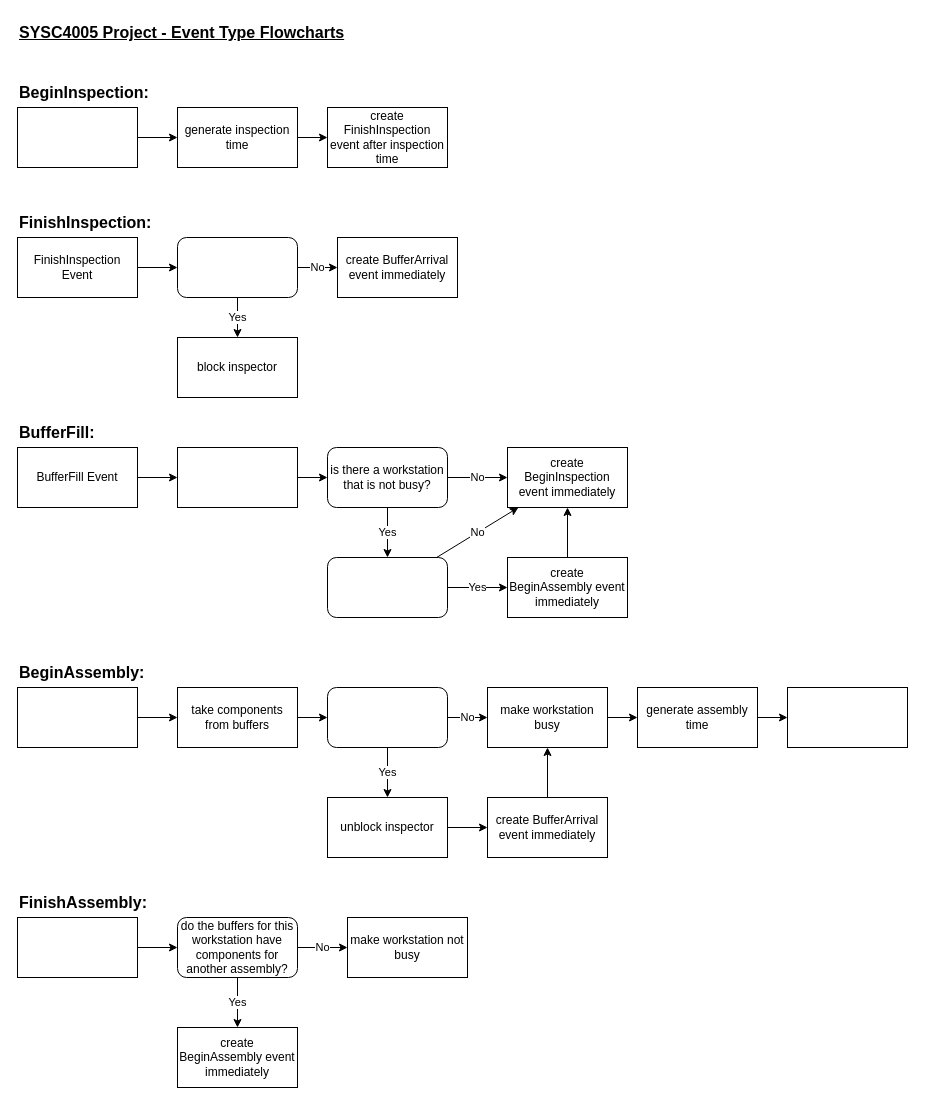
Image size: 925x1105. Some labels were removed from this diagram. Each missing label, with the box of its shape:
add component to buffer: (176, 446, 298, 508)
are all buffers full?: (176, 236, 298, 298)
BeginAssembly Event: (16, 686, 138, 748)
BeginInspection Event: (16, 106, 138, 168)
create FinishAssembly after assembly time: (786, 686, 908, 748)
do the buffers for that workstation now have components for assembly?: (326, 556, 448, 618)
FinishAssembly Event: (16, 916, 138, 978)
is an inspector blocked?: (326, 686, 448, 748)
